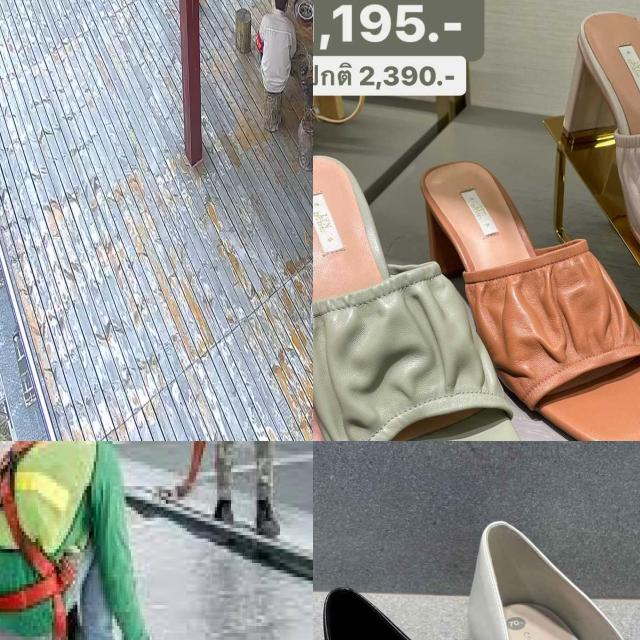Harness: (0, 462, 63, 612)
Sandals: (313, 134, 559, 441), (416, 148, 640, 441), (542, 5, 640, 344), (447, 492, 640, 640), (313, 578, 640, 640)
